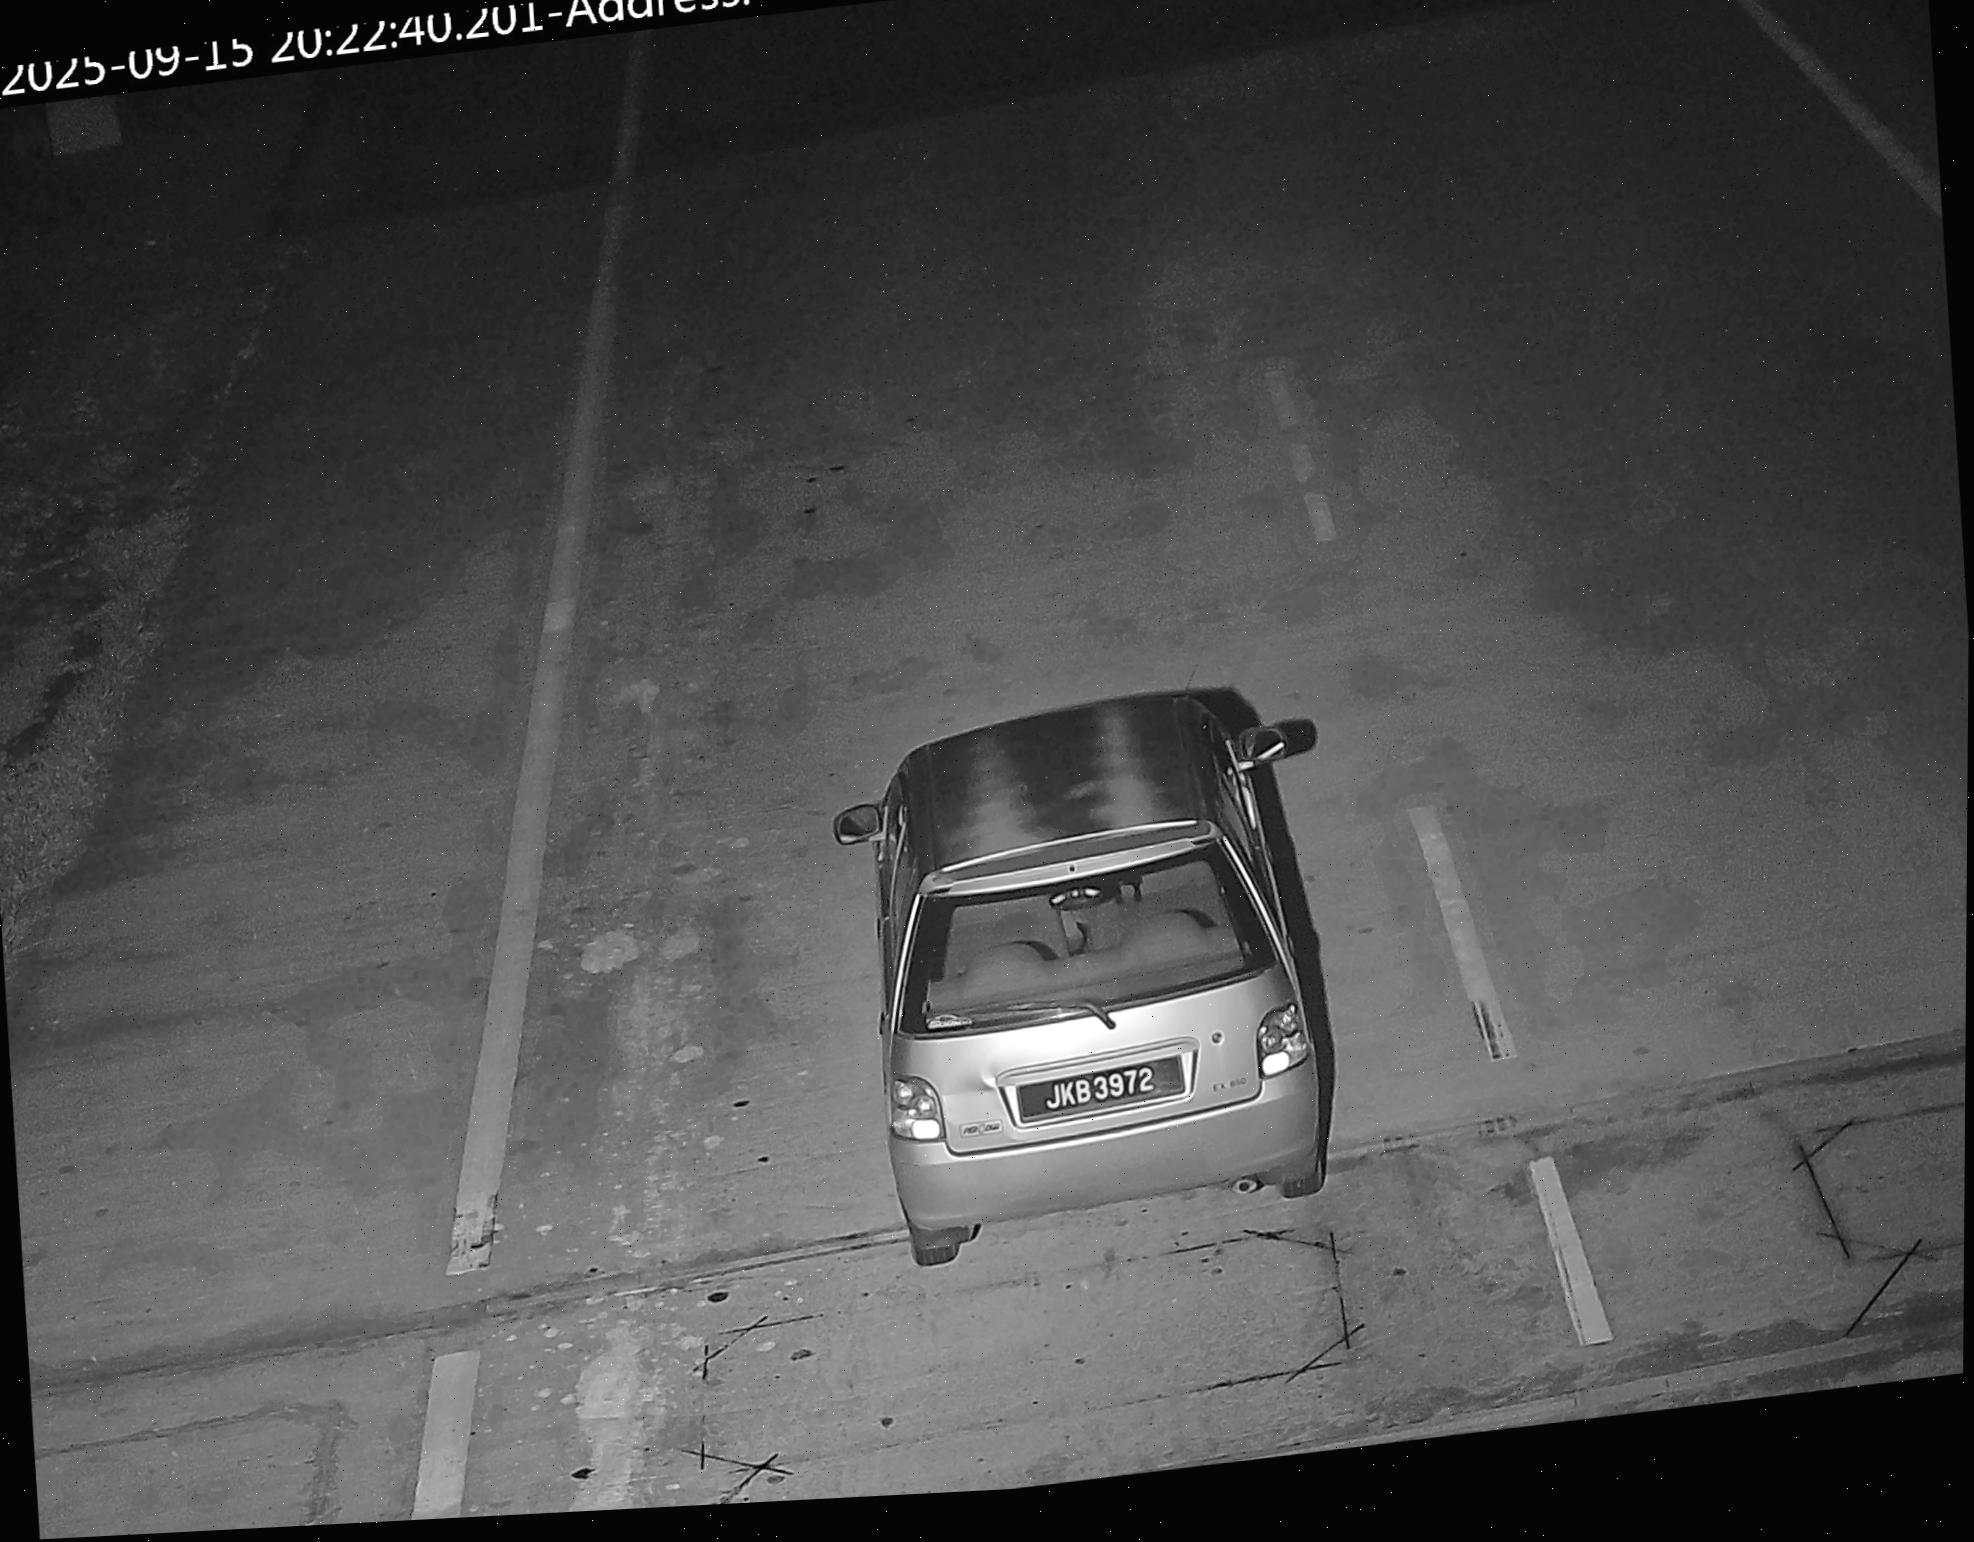non broken: (1023, 1060, 1181, 1118)
